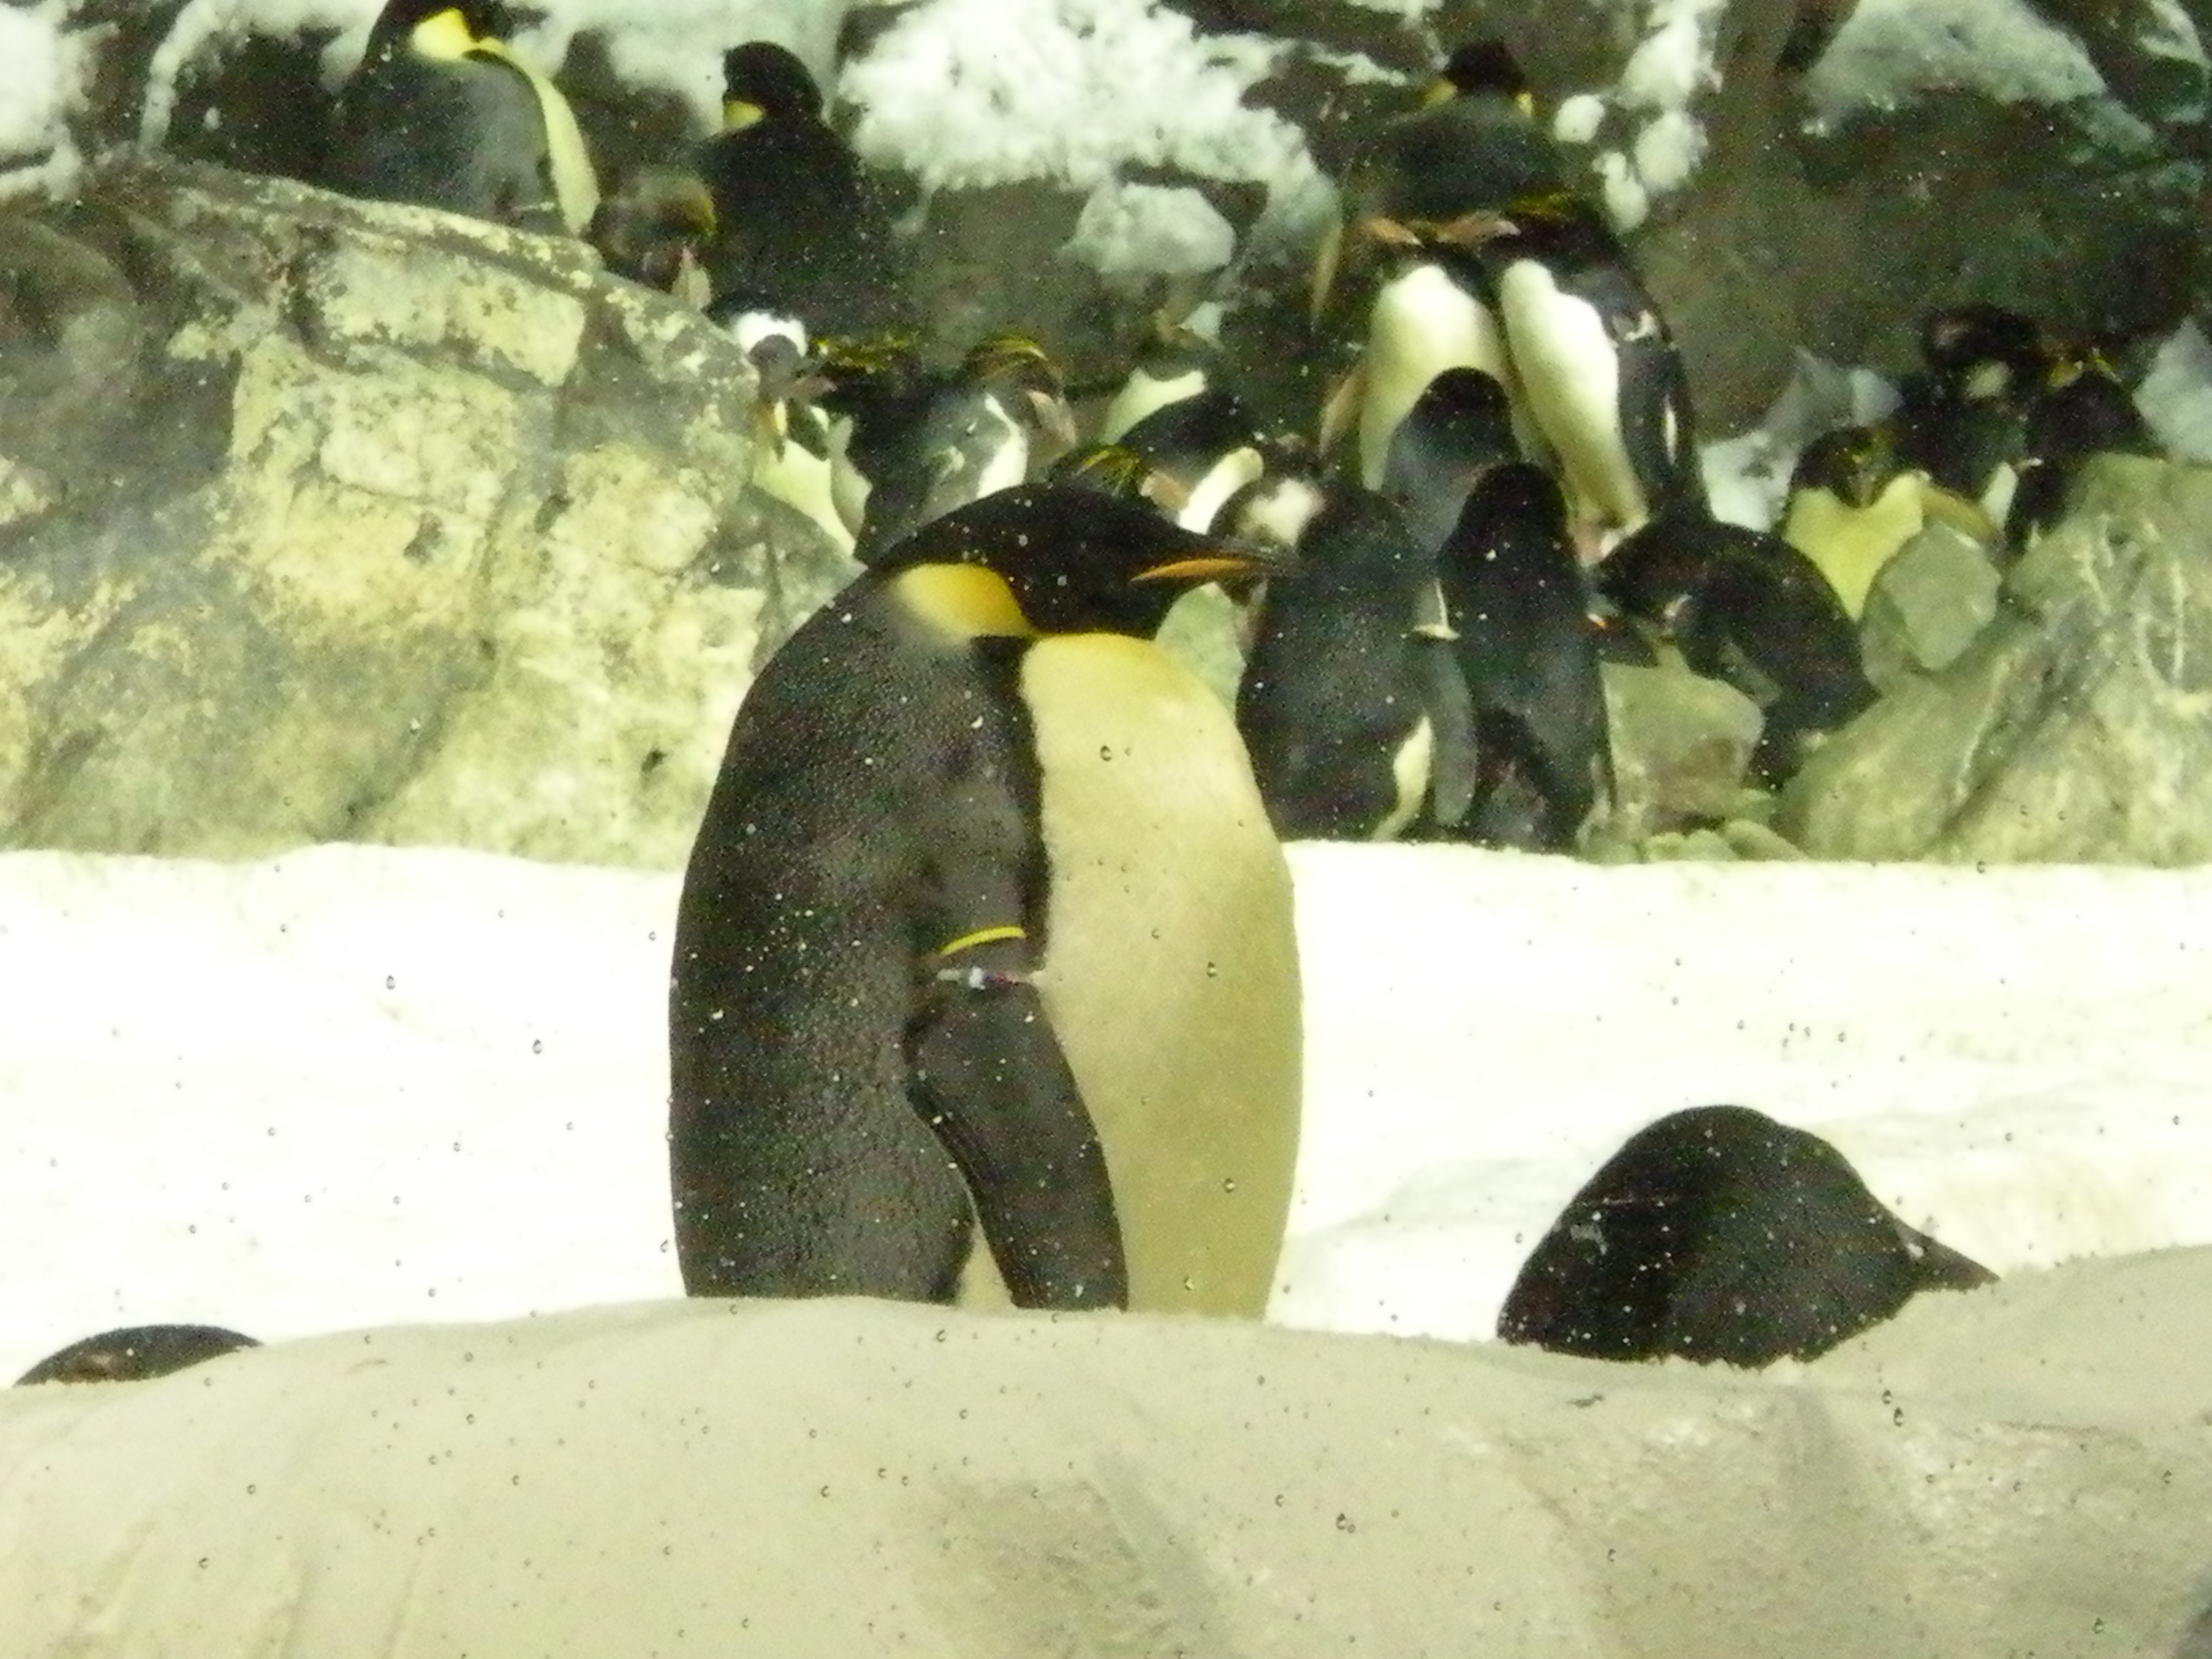penguin: (676, 481, 1310, 1345)
